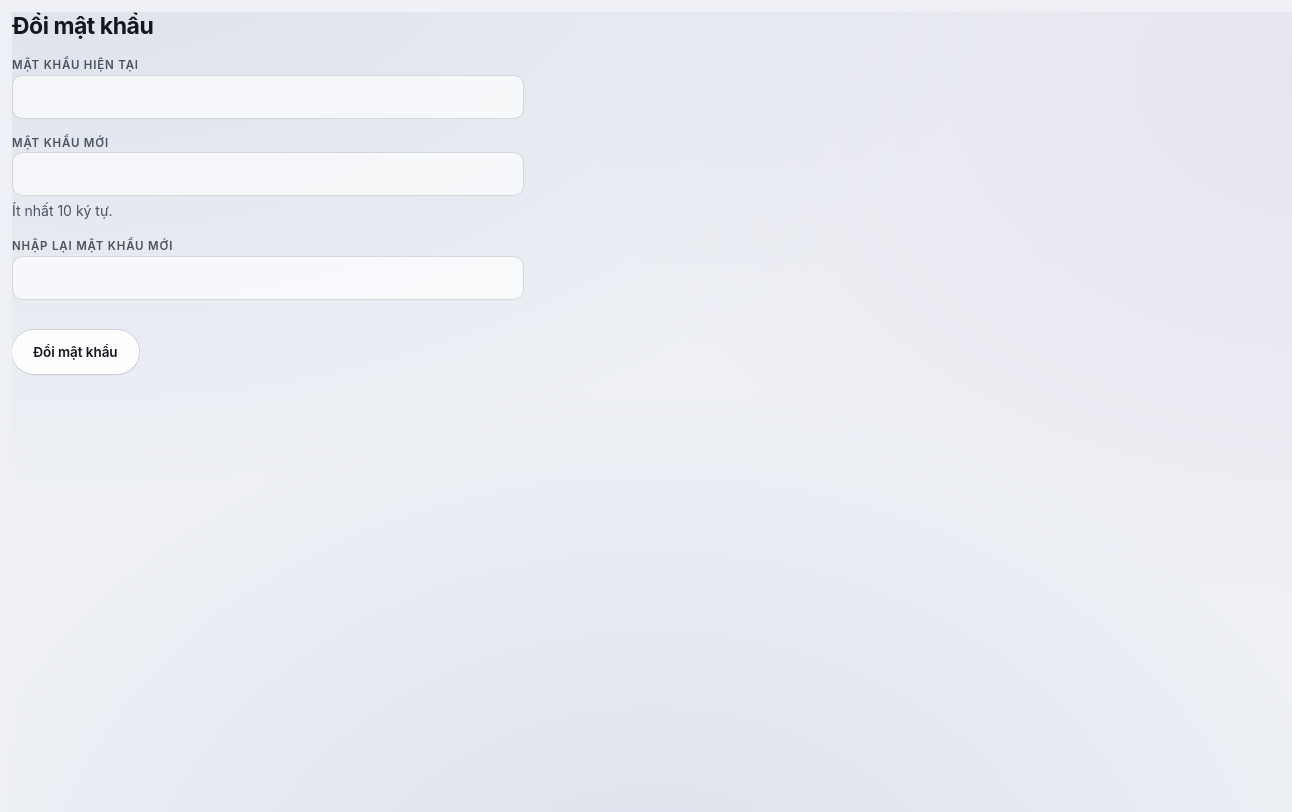
Test: ChangePasswordPage › says what it is doing while the change is in flight (D148)
Check: the password field labelled "Mật khẩu mới" is shown, box [12,152,524,196]
Type "cu-cua-toi" into the password field labelled "Mật khẩu hiện tại" at (268,97), box [12,75,524,119]
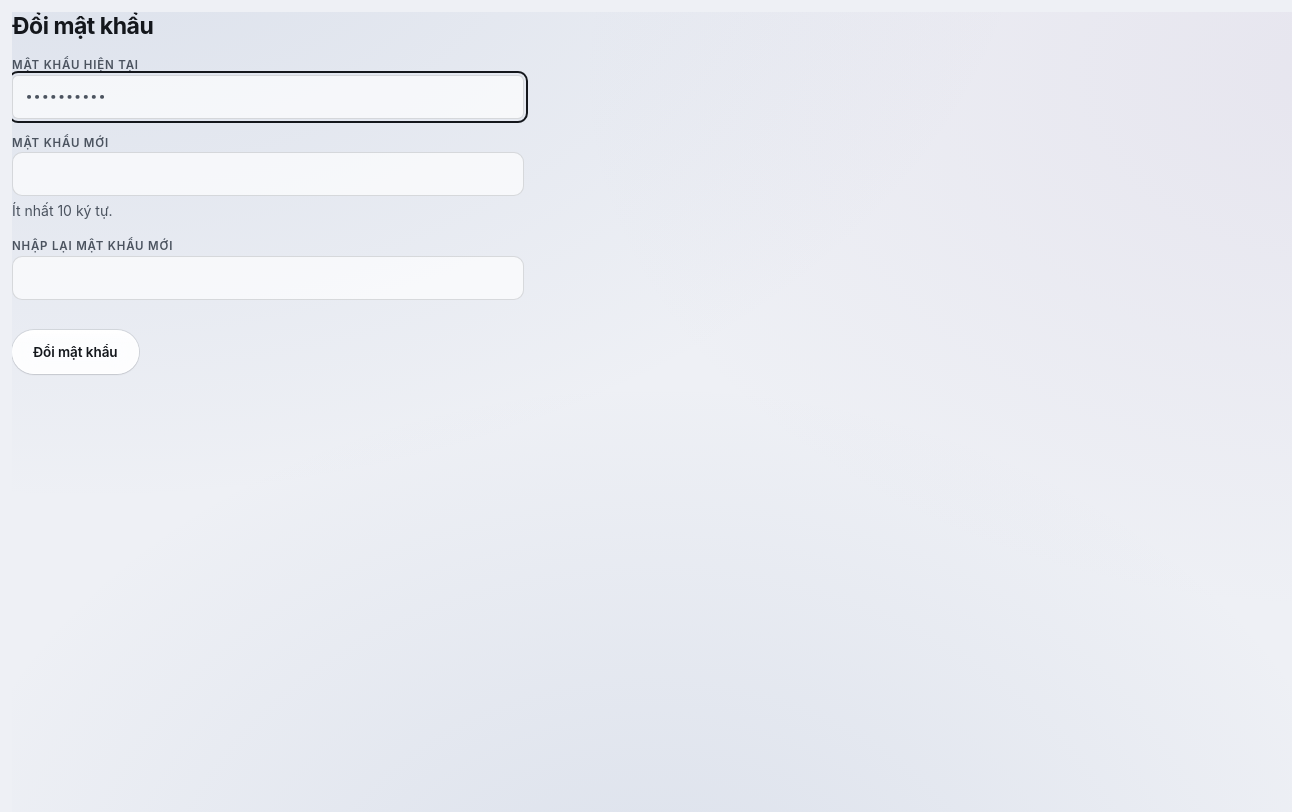
Type "matkhaudai1" into the password field labelled "Mật khẩu mới" at (268,174), box [12,152,524,196]
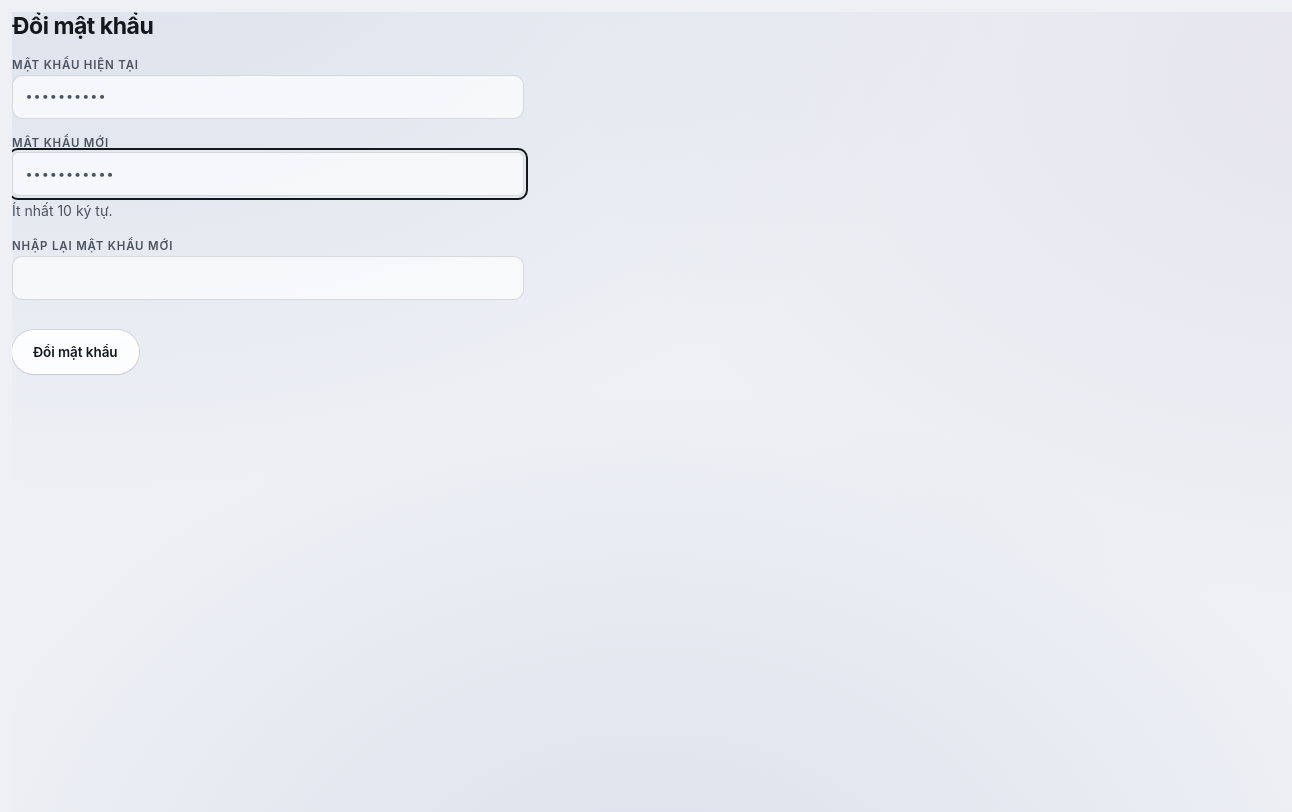
Type "matkhaudai1" into the password field labelled "Nhập lại mật khẩu mới" at (268,278), box [12,256,524,300]
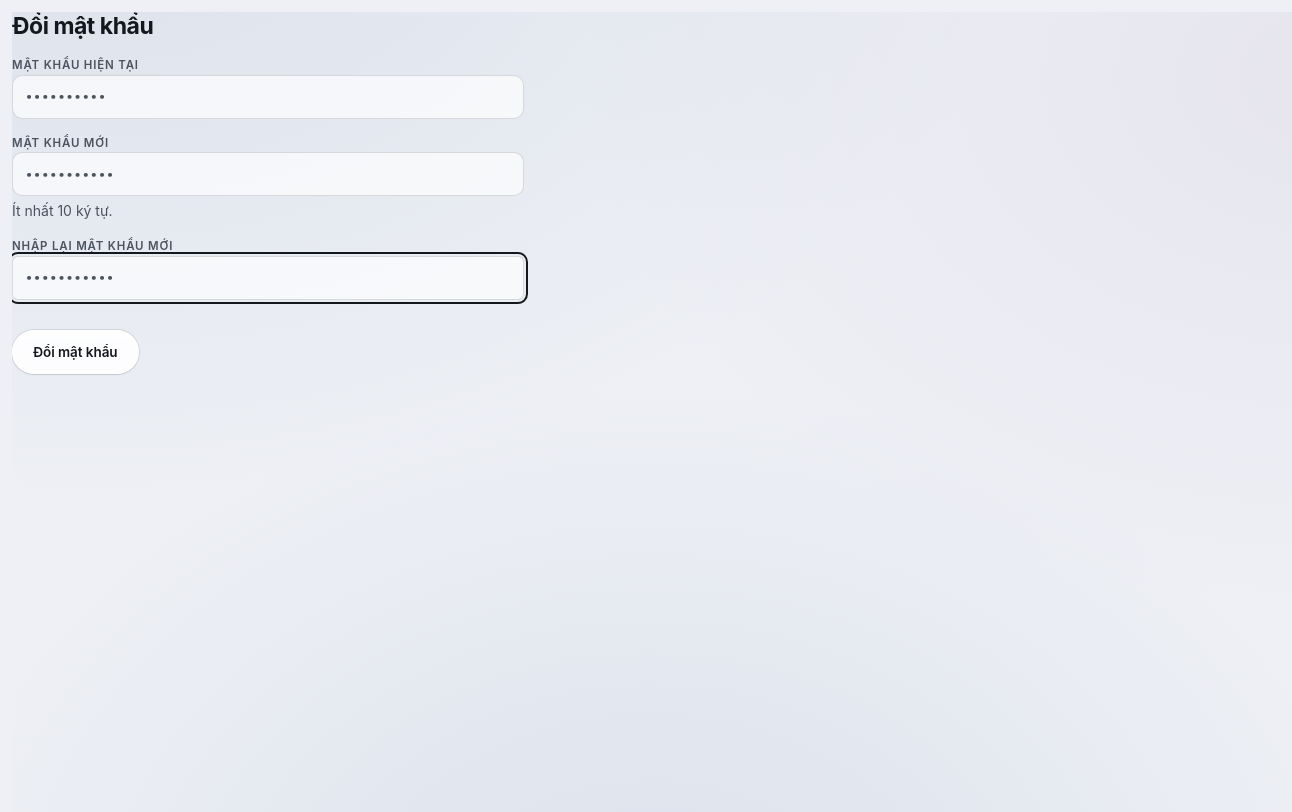
Click the button "Đổi mật khẩu" at (75,352), box [12,330,138,374]
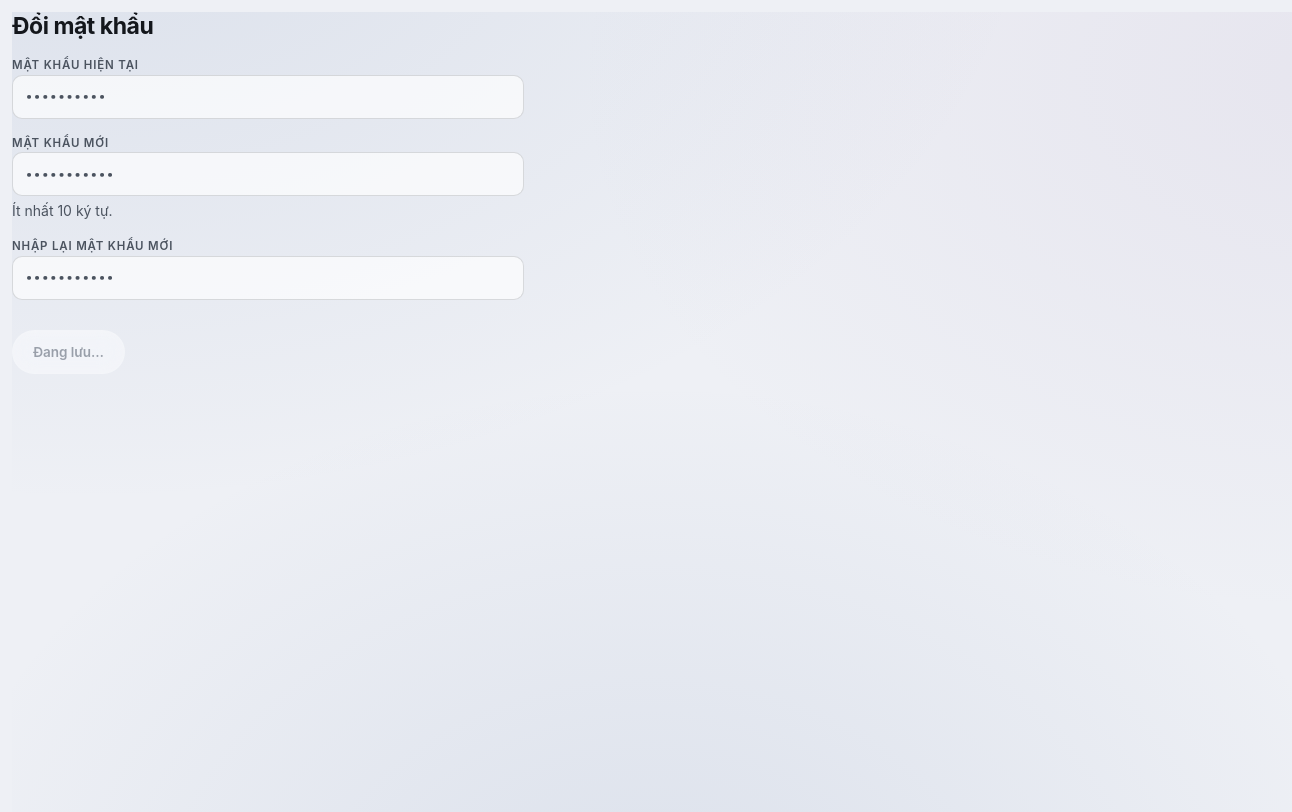
Check: the button "Đang lưu…" is disabled, box [12,330,125,374]
